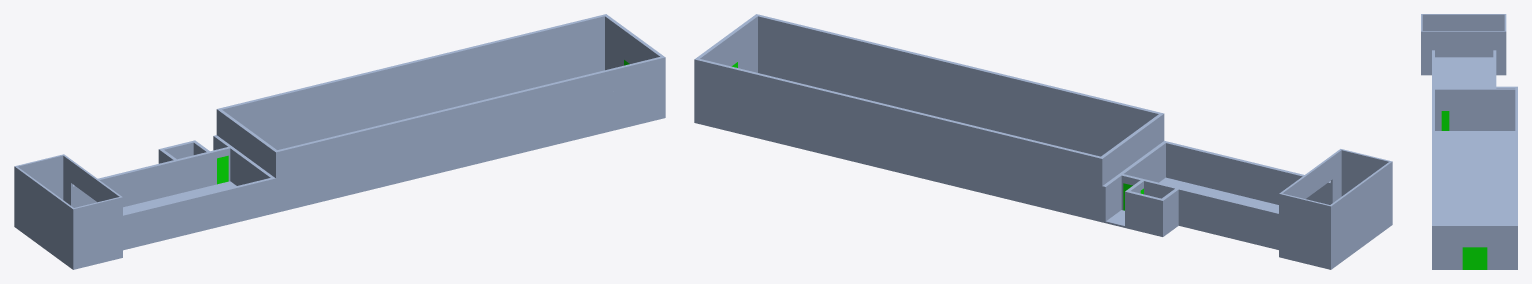
File: Pump_Station_1_expansion.glb
3 renders of one model, left to right at view 1: azimuth 30°, elevation 25°; view 2: azimuth 150°, elevation 25°; view 3: azimuth 270°, elevation 25°, orthographic. The views are drawn at different scales.
Parts seen in each view (by area): view 1: Floor1; view 2: Floor1; view 3: Floor1.
Part boxes in pixels (x1=…): Floor1: x1=14, y1=14, x2=665, y2=269; Floor1: x1=694, y1=14, x2=1392, y2=269; Floor1: x1=1421, y1=14, x2=1517, y2=269.
Size of the model in its own units: 72.47 by 7 by 13.99.
